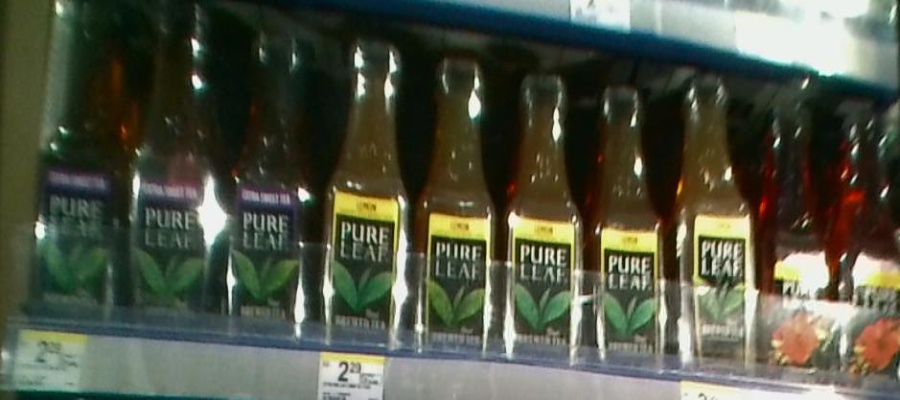bottle: (125, 12, 223, 321), (667, 63, 758, 374), (328, 29, 412, 349), (418, 39, 501, 351), (234, 9, 312, 322), (508, 52, 586, 358), (589, 75, 671, 366), (40, 15, 114, 311), (753, 89, 829, 372), (830, 110, 900, 372)
